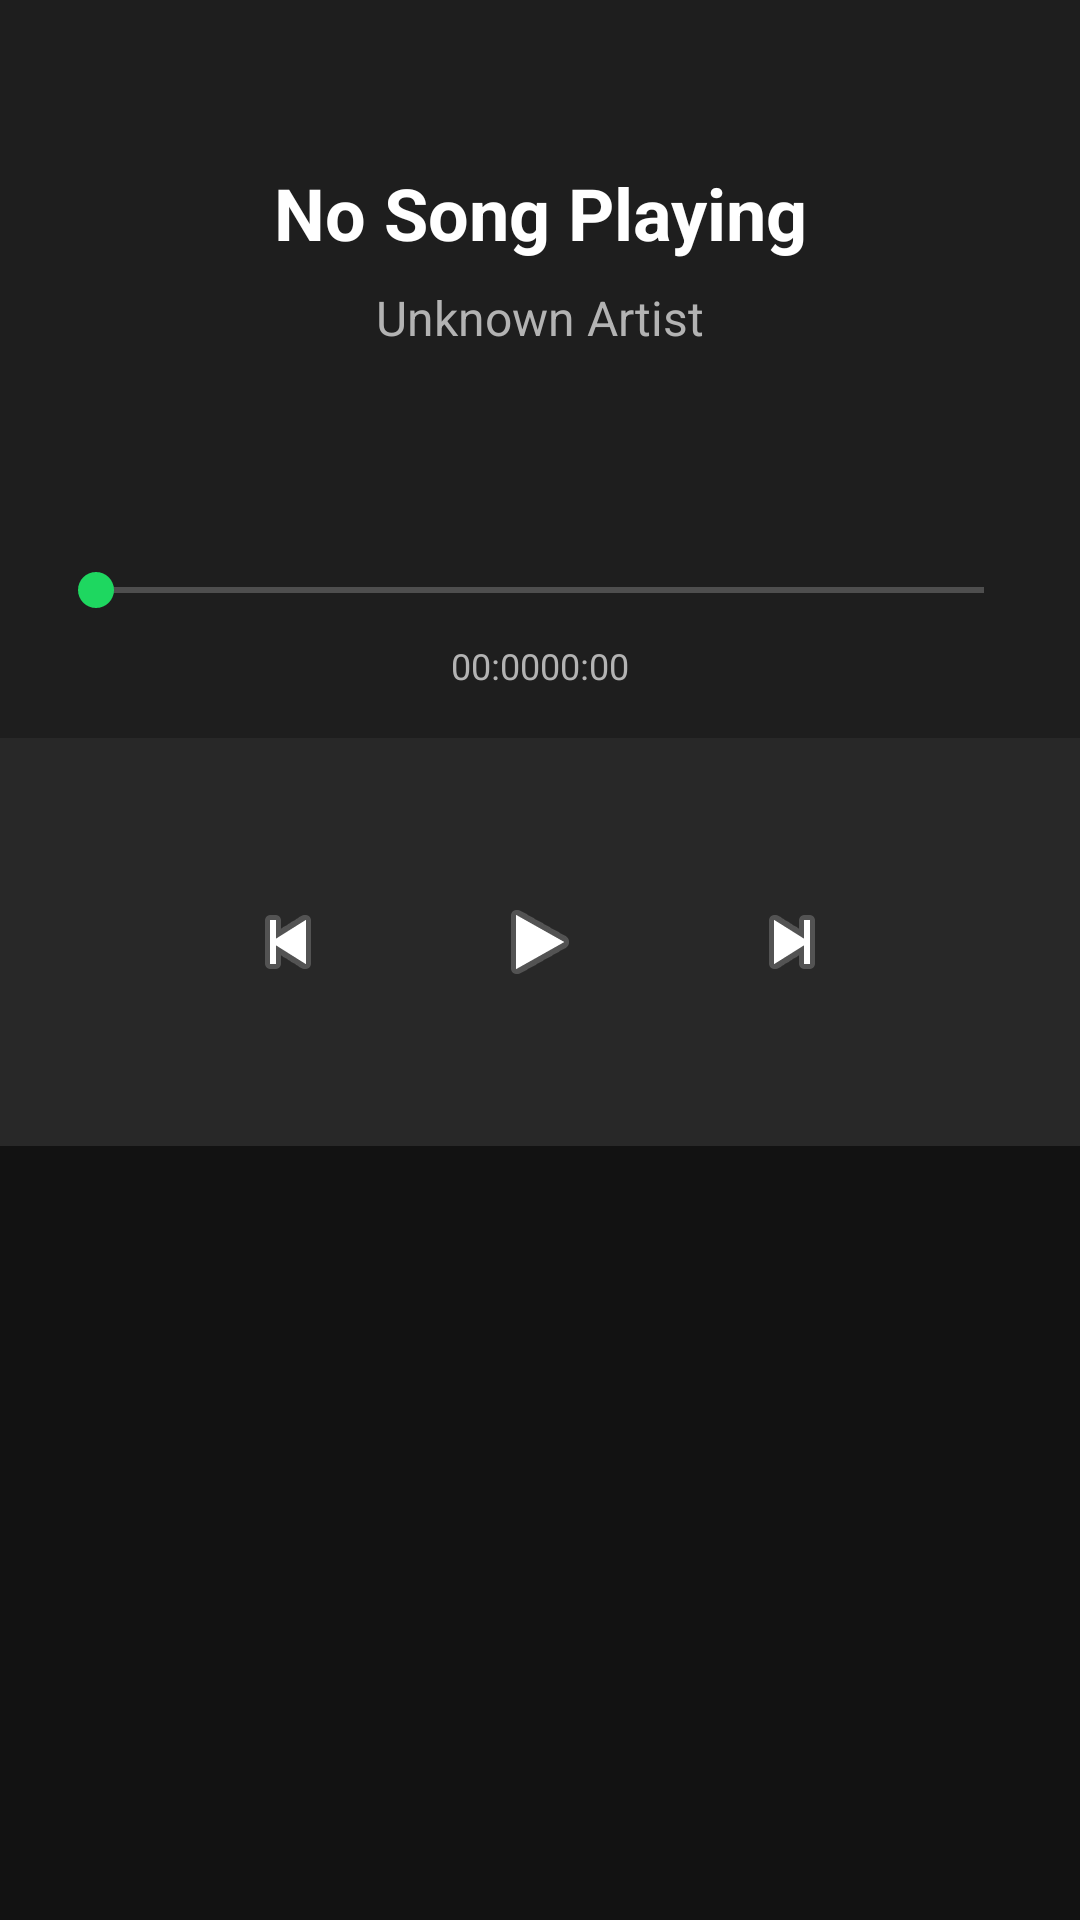

Point at icon controls on the screen. Image size 1080px x 1920px, points as [x,y].
Next: [792,942]
Play: [540,942]
Previous: [288,942]
